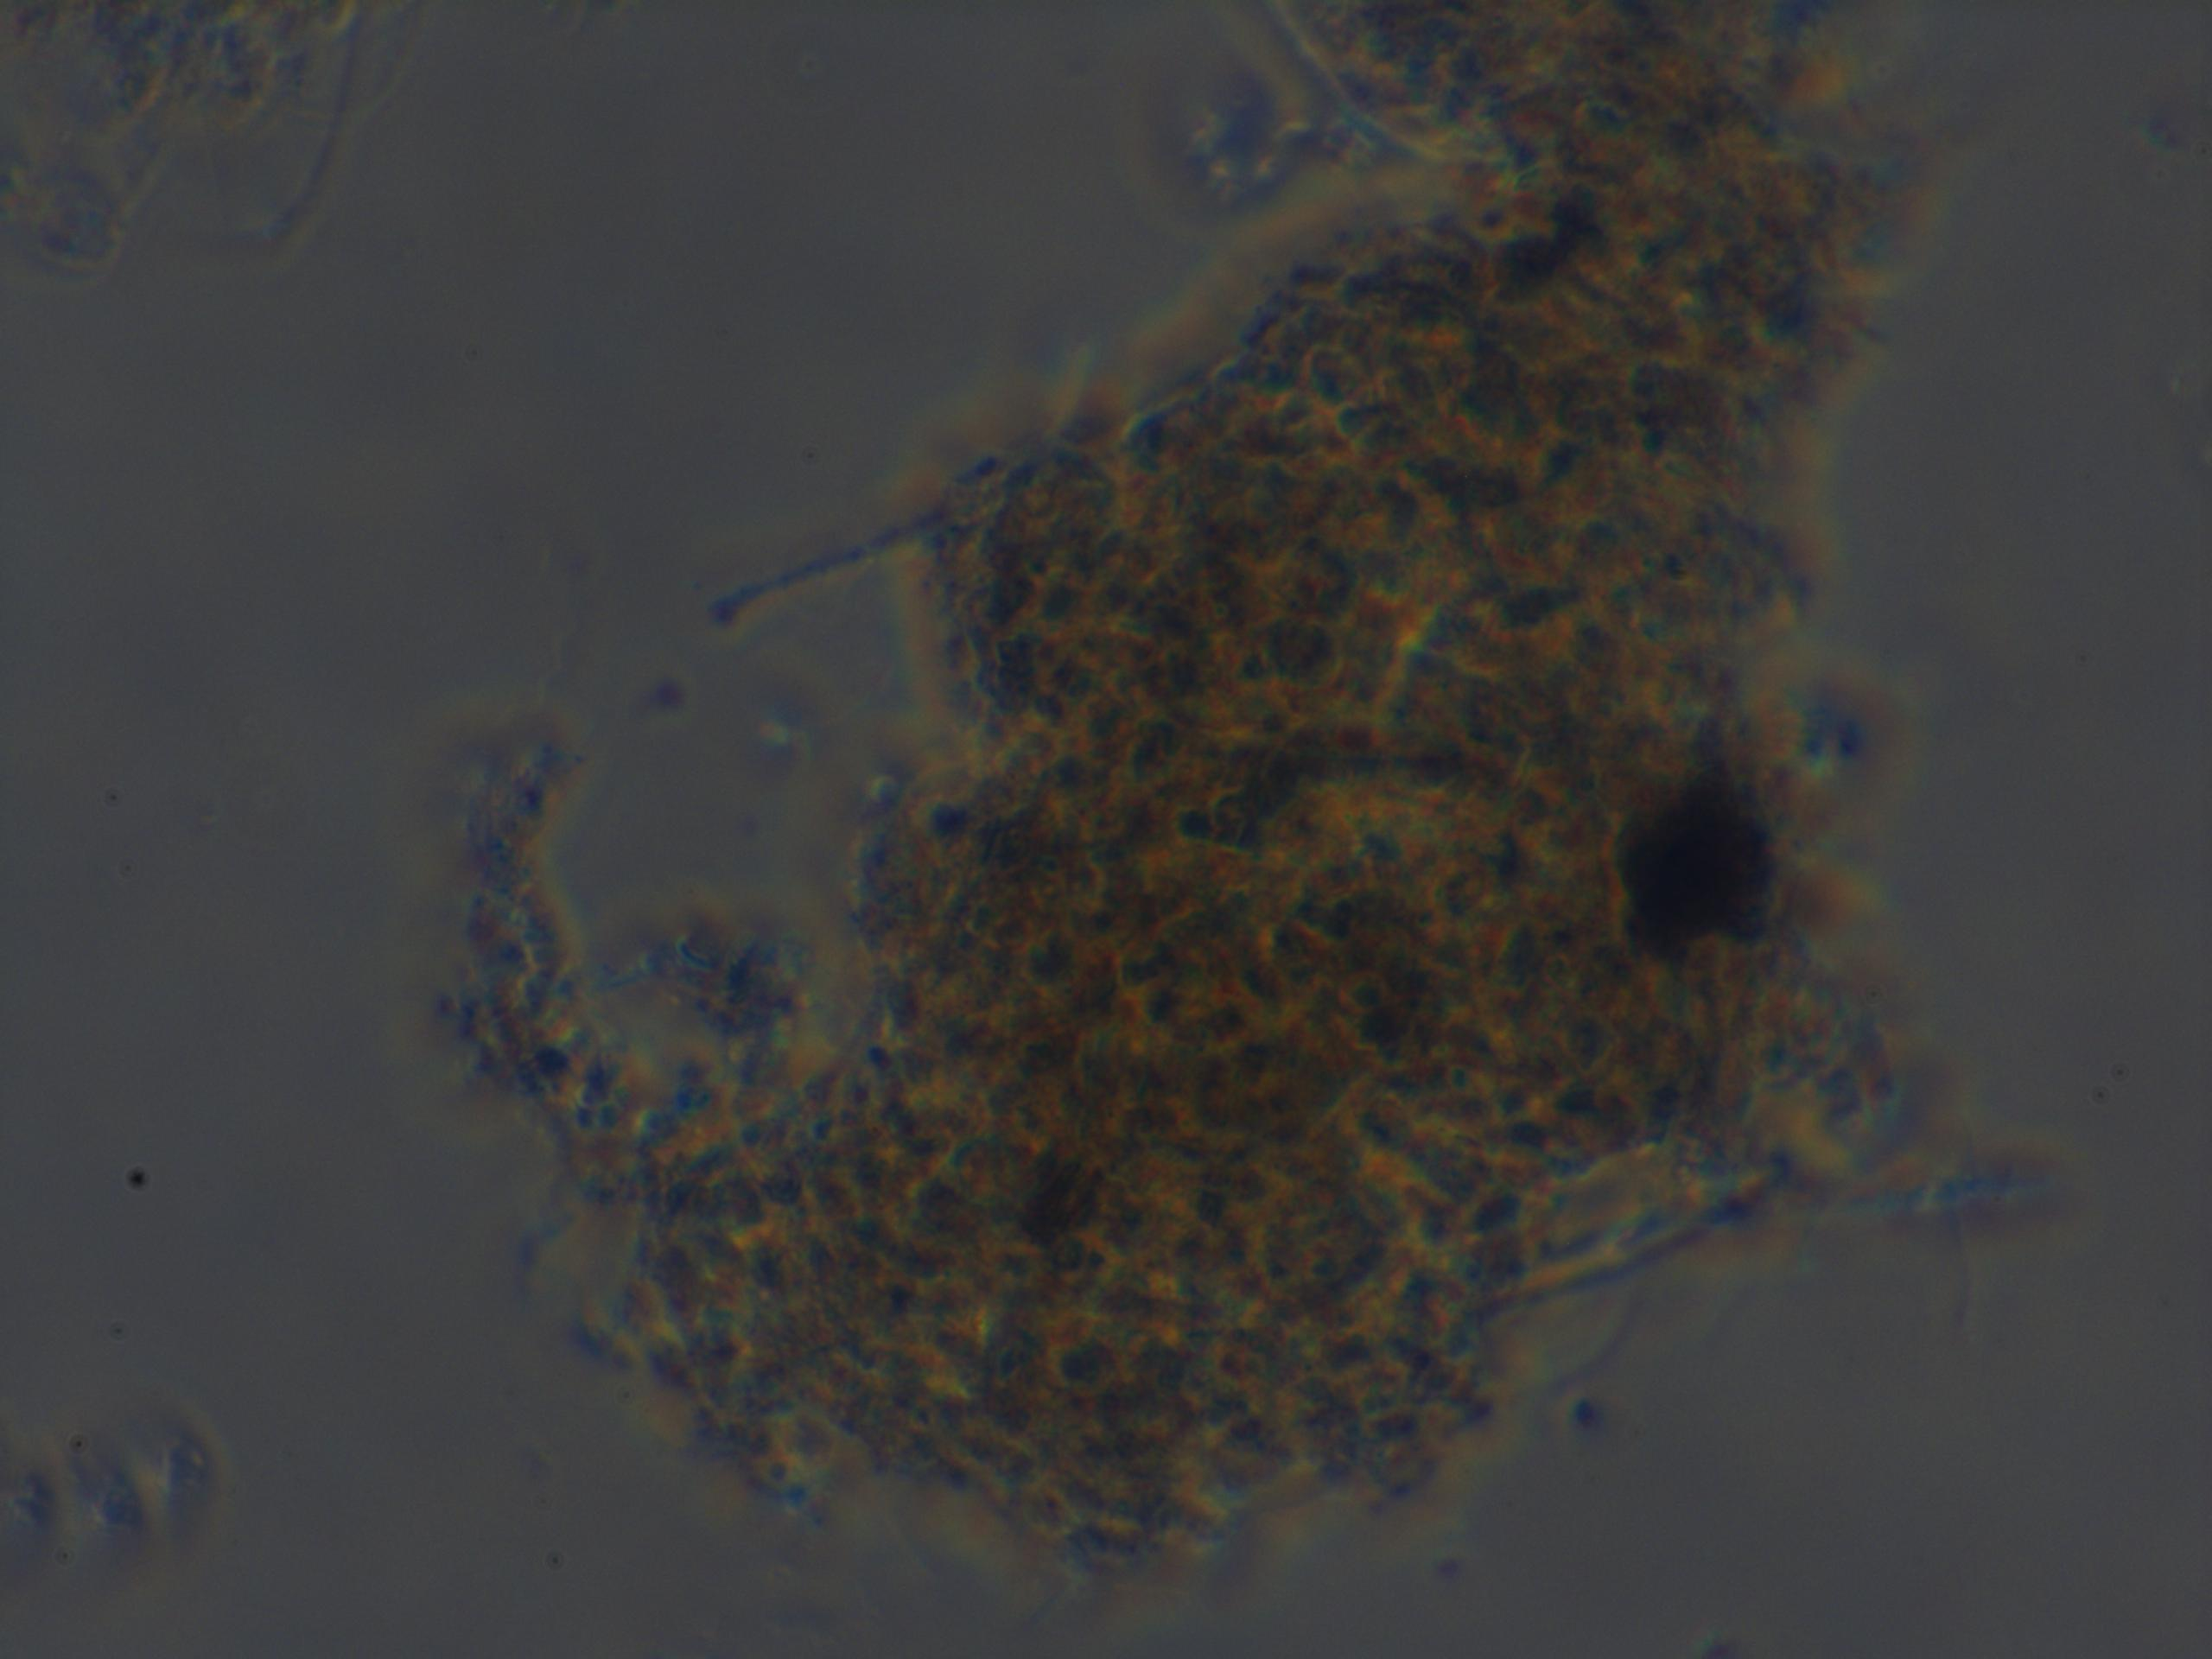filament: (1533, 1161, 2050, 1286), (707, 493, 944, 626)
spherical_floc: (566, 193, 1876, 1574)
